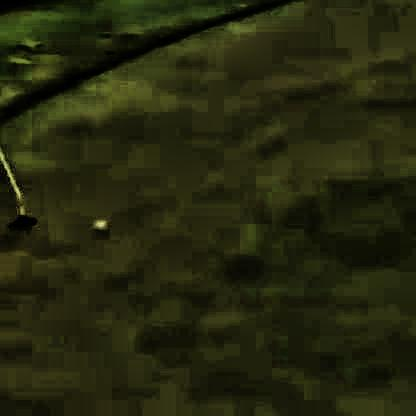golfball: (90, 215, 108, 231)
